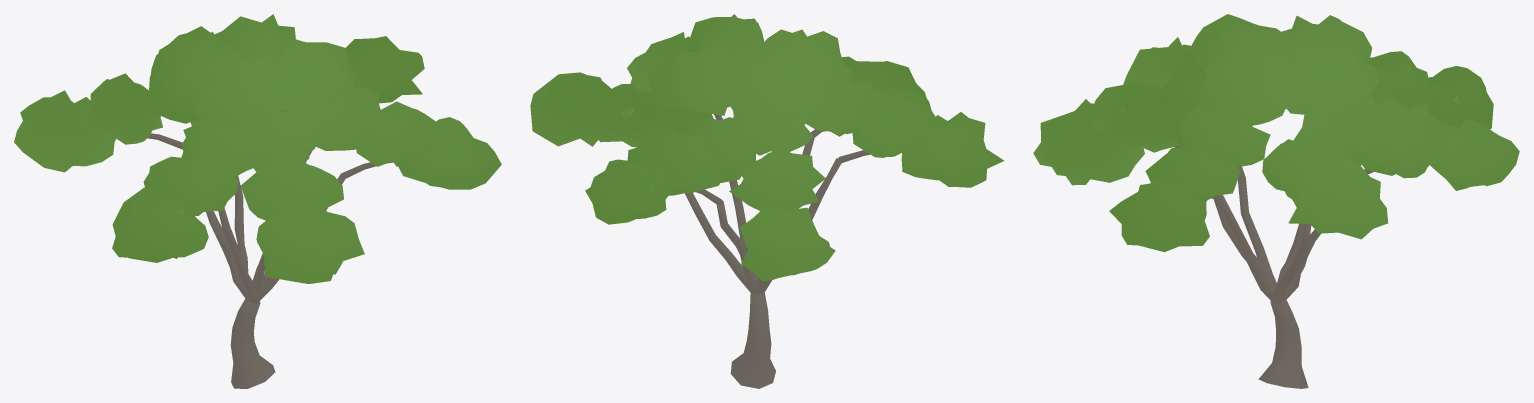
File: Blender_Jacaranda_1.glb
3 views of the same model, side by side, from view 1: azimuth 30°, elevation 25°; view 2: azimuth 150°, elevation 25°; view 3: azimuth 270°, elevation 25° (orthographic). The views are drawn at different scales.
Visible parts, largest first — view 1: Blender_Jacaranda_1; view 2: Blender_Jacaranda_1; view 3: Blender_Jacaranda_1.
Part boxes in pixels (x1,y1,x2,y2): Blender_Jacaranda_1: [14, 14, 501, 388]; Blender_Jacaranda_1: [530, 14, 1004, 388]; Blender_Jacaranda_1: [1033, 14, 1519, 388].
Size of the model in its own units: 14.56 by 12.49 by 15.4.
